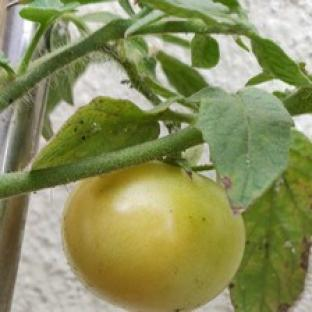Tomato: (63, 162, 245, 311)
